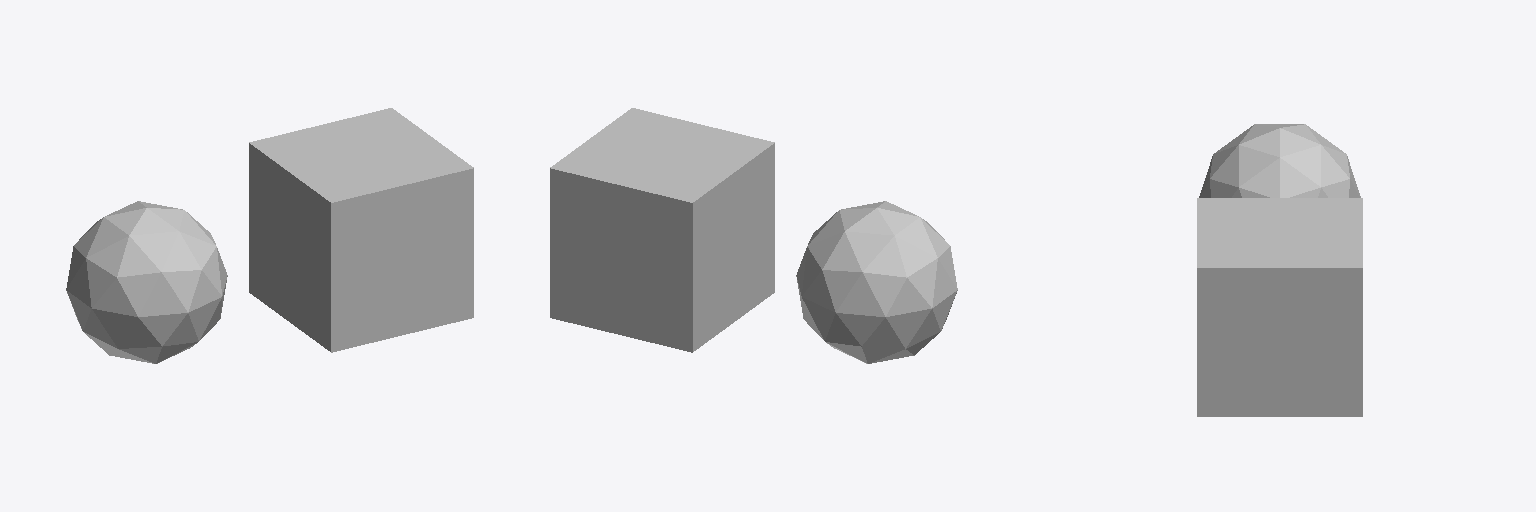
Rendered from Pebble_Sphere.obj.
3 renders of one model, left to right at view 1: azimuth 30°, elevation 25°; view 2: azimuth 150°, elevation 25°; view 3: azimuth 270°, elevation 25°, orthographic.
Visible parts, largest first — view 1: Cube, Icosphere; view 2: Cube, Icosphere; view 3: Cube, Icosphere.
Part boxes in pixels (bbox=[...]): Cube: bbox=[249, 108, 473, 352]; Icosphere: bbox=[66, 201, 227, 363]; Cube: bbox=[550, 108, 774, 352]; Icosphere: bbox=[796, 201, 957, 363]; Cube: bbox=[1197, 198, 1362, 416]; Icosphere: bbox=[1199, 124, 1360, 197].
Size of the model in its own units: 4.95 by 2 by 2.